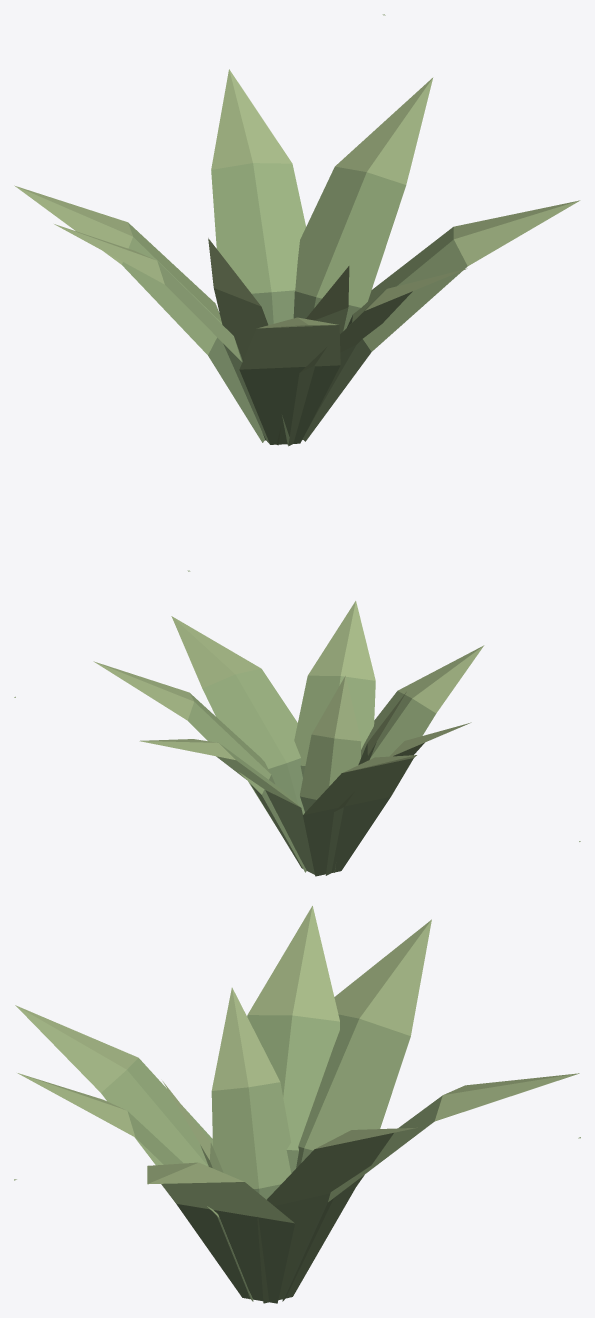
Rendered from Fern2_lite_leaf.glb.
The picture shows the model from 3 angles, top to bottom: view 1: azimuth 30°, elevation 25°; view 2: azimuth 150°, elevation 25°; view 3: azimuth 270°, elevation 25°; orthographic projection. The views are drawn at different scales.
Parts seen in each view (by area): view 1: Fern2_lite_leaf; view 2: Fern2_lite_leaf; view 3: Fern2_lite_leaf.
Part boxes in pixels (left/top/right/bottom): Fern2_lite_leaf: left=14, top=14, right=580, bottom=571; Fern2_lite_leaf: left=14, top=601, right=580, bottom=876; Fern2_lite_leaf: left=14, top=906, right=580, bottom=1303.
Bounding box in the file's own units: 3.18 × 1.73 × 3.13.
